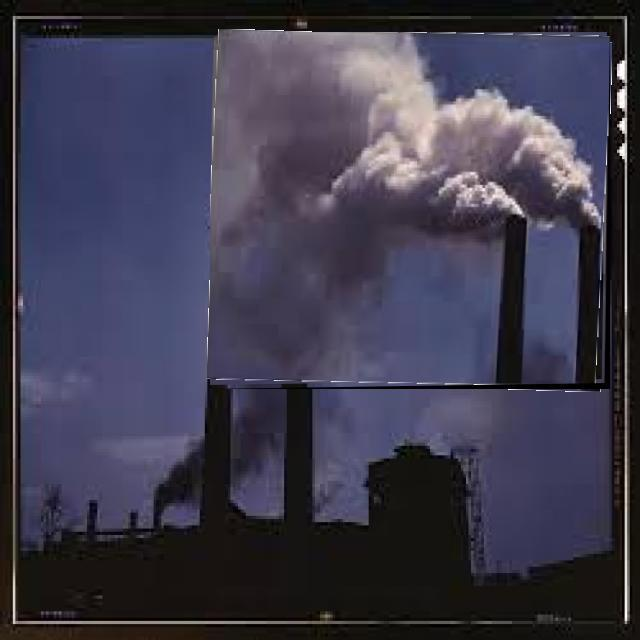smoke: (213, 141, 393, 381), (439, 85, 601, 230), (221, 35, 439, 137), (336, 139, 526, 234)
